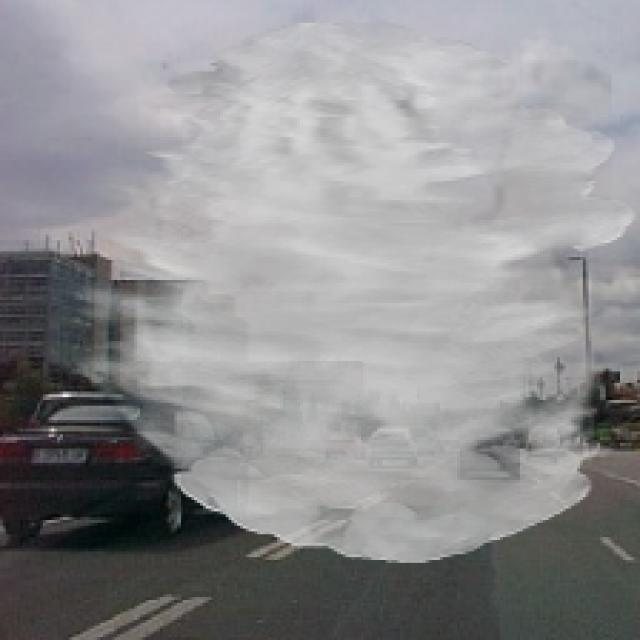smoke: (69, 20, 637, 563)
